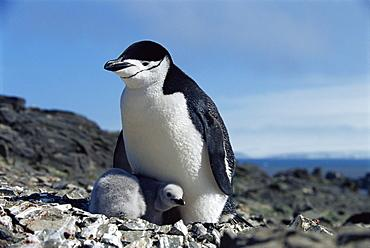chinstrap: (92, 25, 254, 235)
